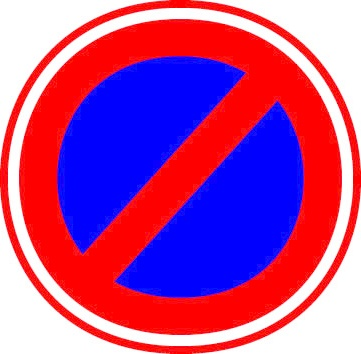Prohibition_sign: (6, 3, 354, 350)
